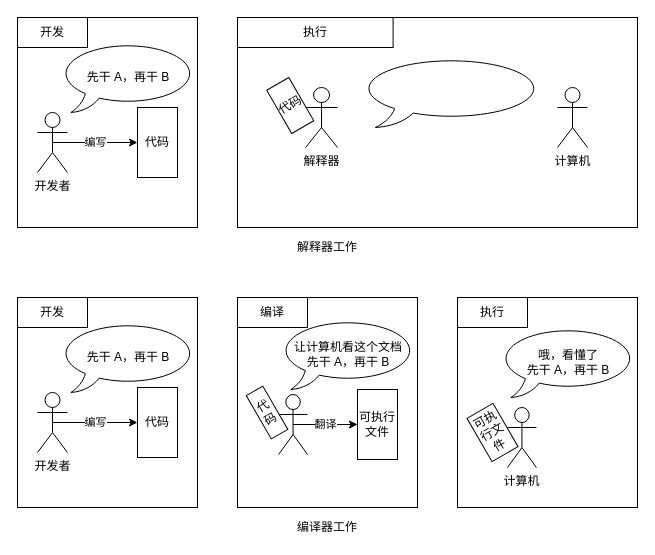
Image size: 655x555. Some labels were removed from this diagram. The shapes that lost their labels are listed below. From the top down, each one's centre as x and y in pixels, then its label:
At (451,92): "计算机你先干 A，再 干 B，快干活".
At (293,424): "编译器".
